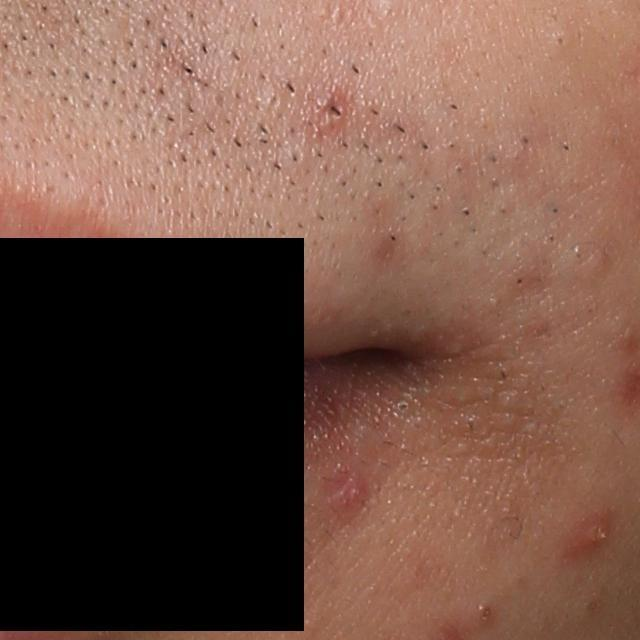comedo: (552, 31, 571, 53)
papule: (330, 469, 370, 518), (312, 92, 348, 134)
pustule: (558, 508, 617, 561)
